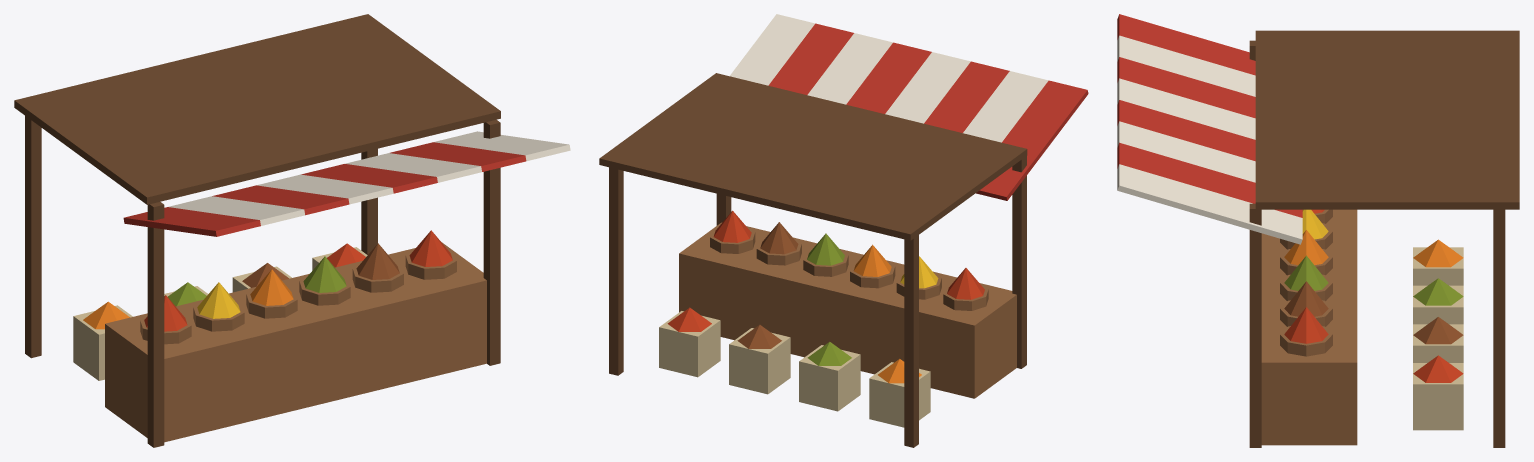
Rendered from basar_kryddor.glb.
3 views of the same model, side by side, from view 1: azimuth 30°, elevation 25°; view 2: azimuth 150°, elevation 25°; view 3: azimuth 270°, elevation 25° (orthographic). The views are drawn at different scales.
Visible parts, largest first — view 1: basar_kryddor; view 2: basar_kryddor; view 3: basar_kryddor.
Boxes of the visible parts, left/top/right/bottom form: basar_kryddor: left=14, top=14, right=570, bottom=447; basar_kryddor: left=599, top=14, right=1088, bottom=447; basar_kryddor: left=1117, top=14, right=1519, bottom=447.
Size of the model in its own units: 4 by 2.87 by 3.96.
